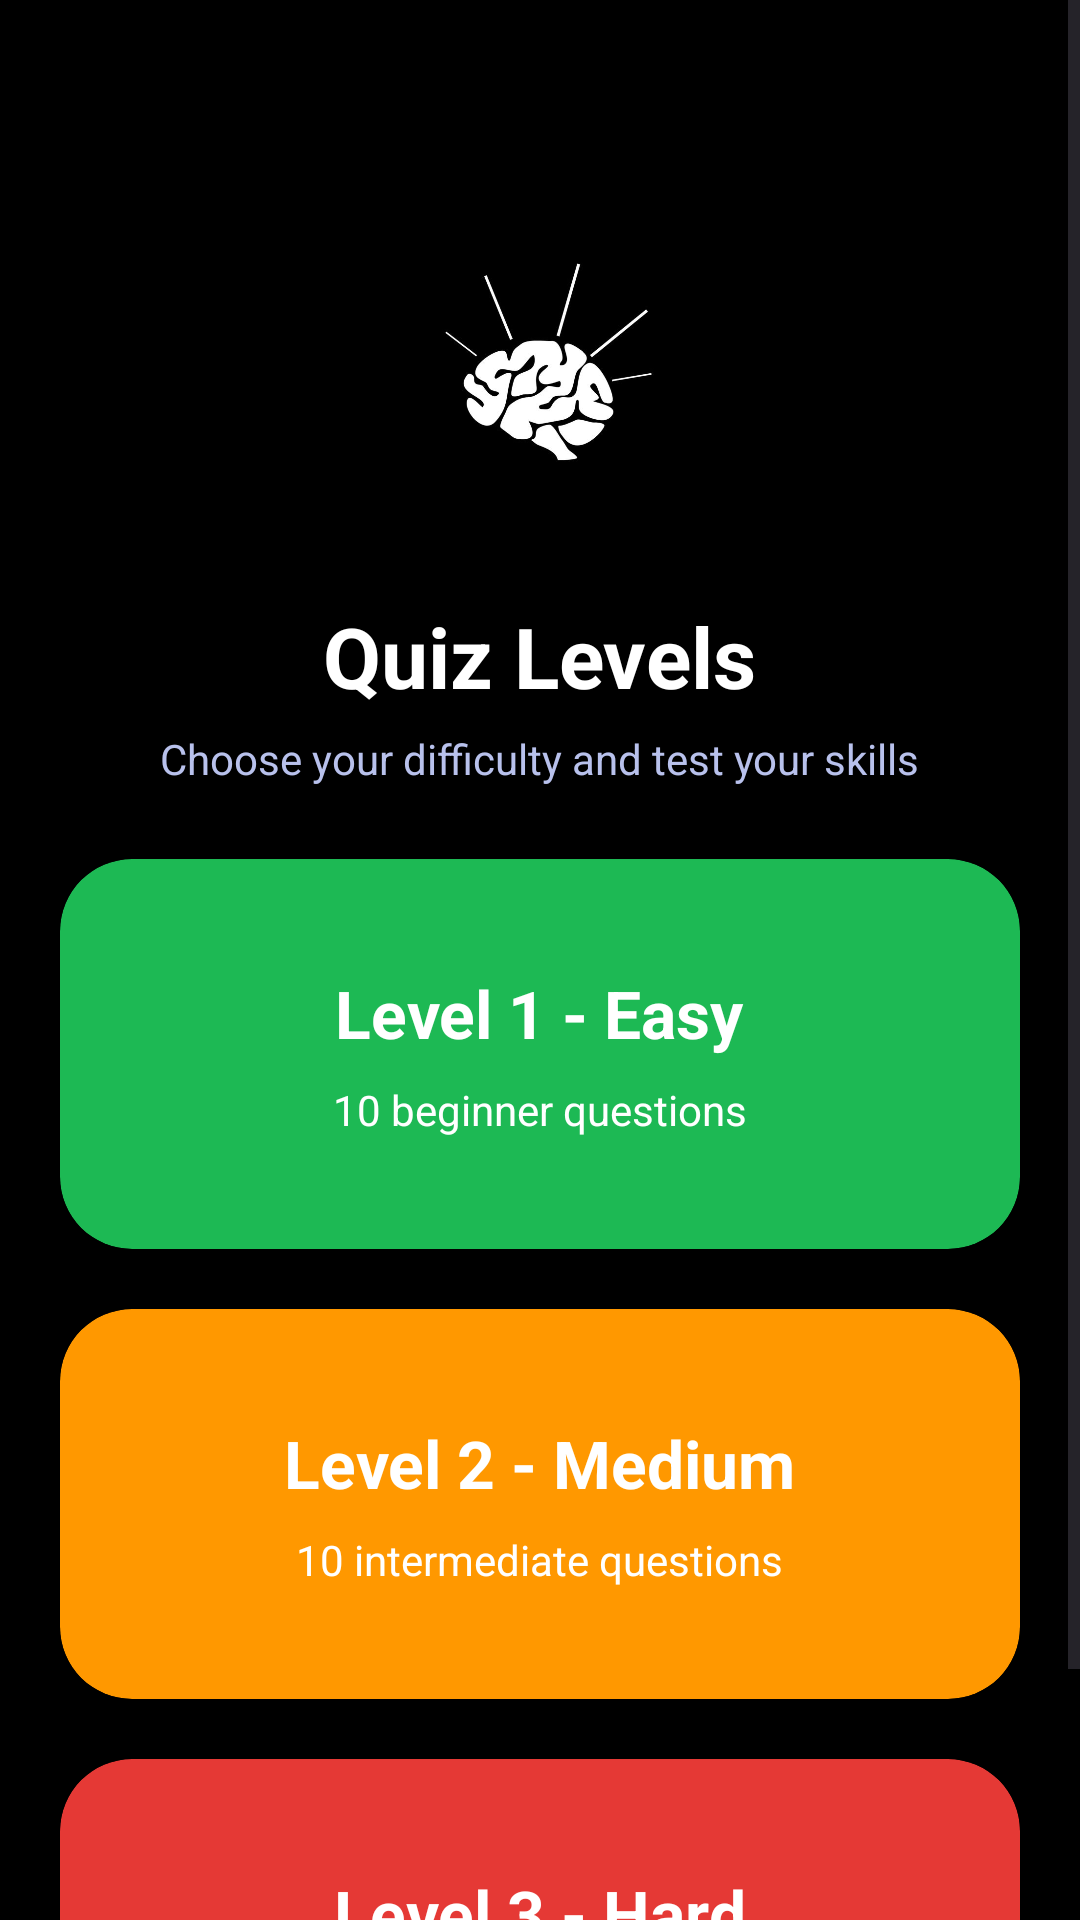

Screen size 1080px×1920px. Icon name, then its box in pixels as [left=x1, top=y1, right=x2, bottom=y2]:
Quiz Header: [left=445, top=263, right=652, bottom=460]
